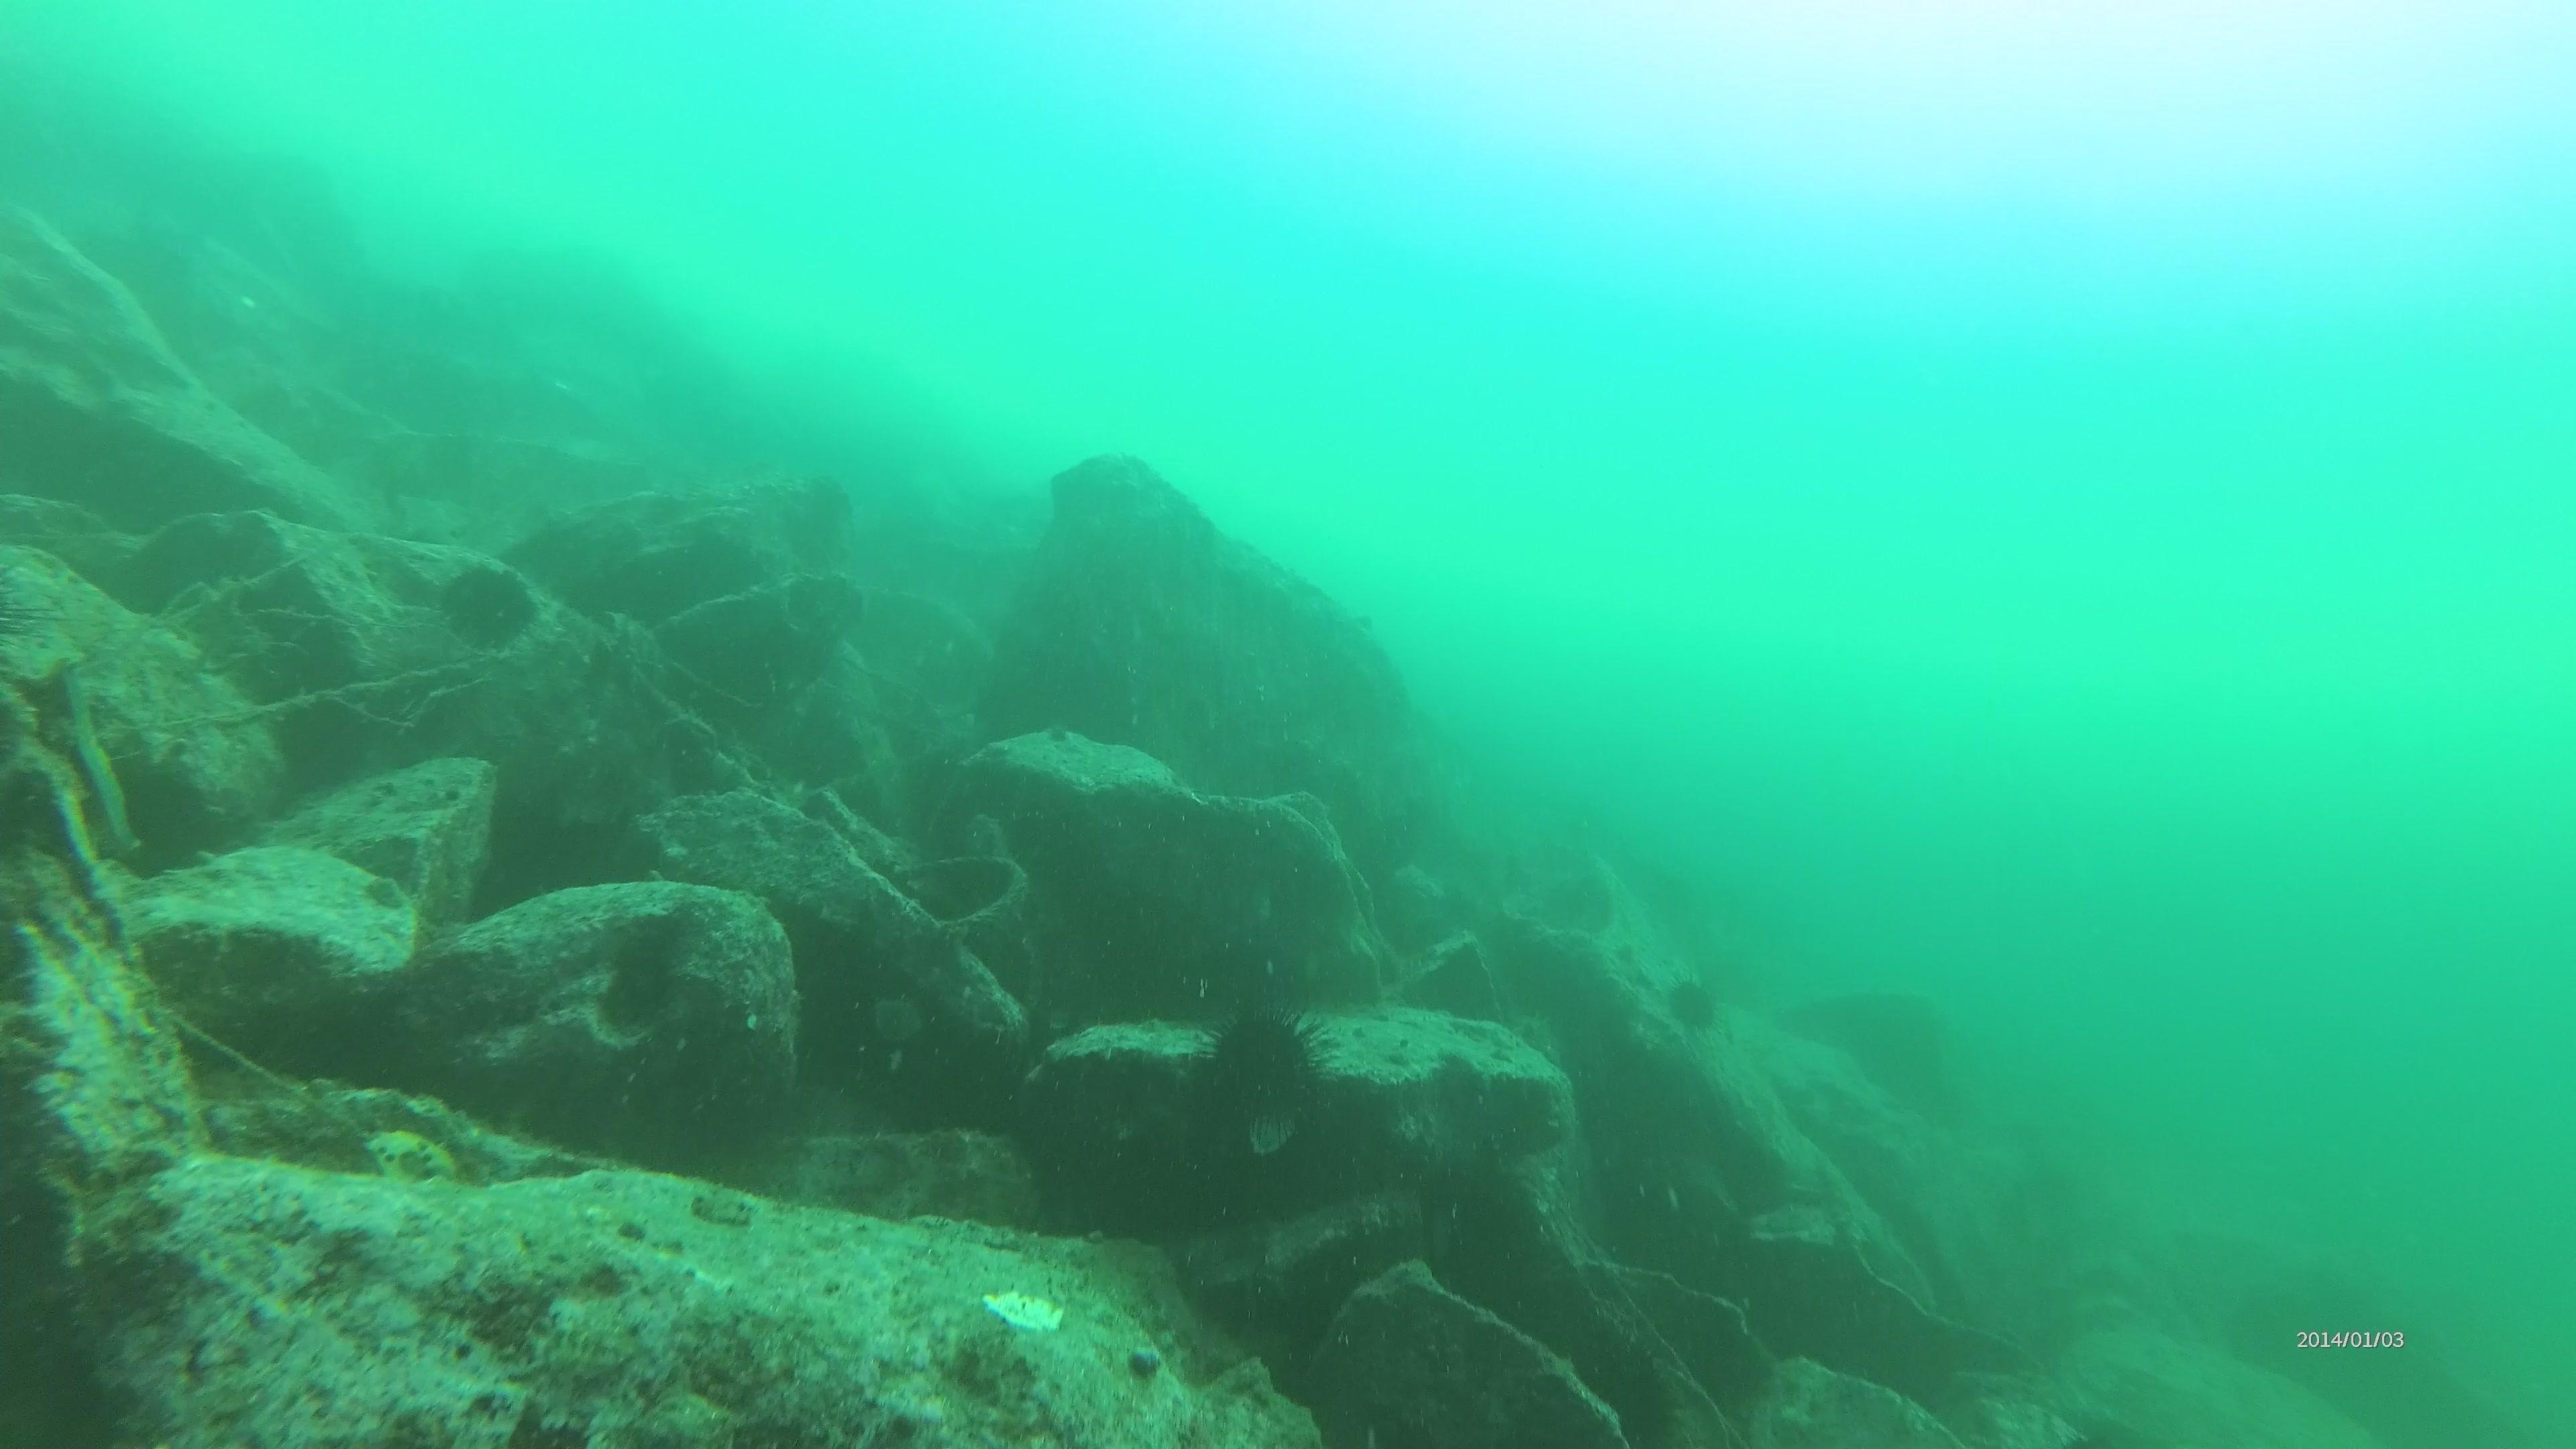echinus: (1191, 1000, 1330, 1136), (433, 556, 541, 655), (1658, 968, 1729, 1042)
